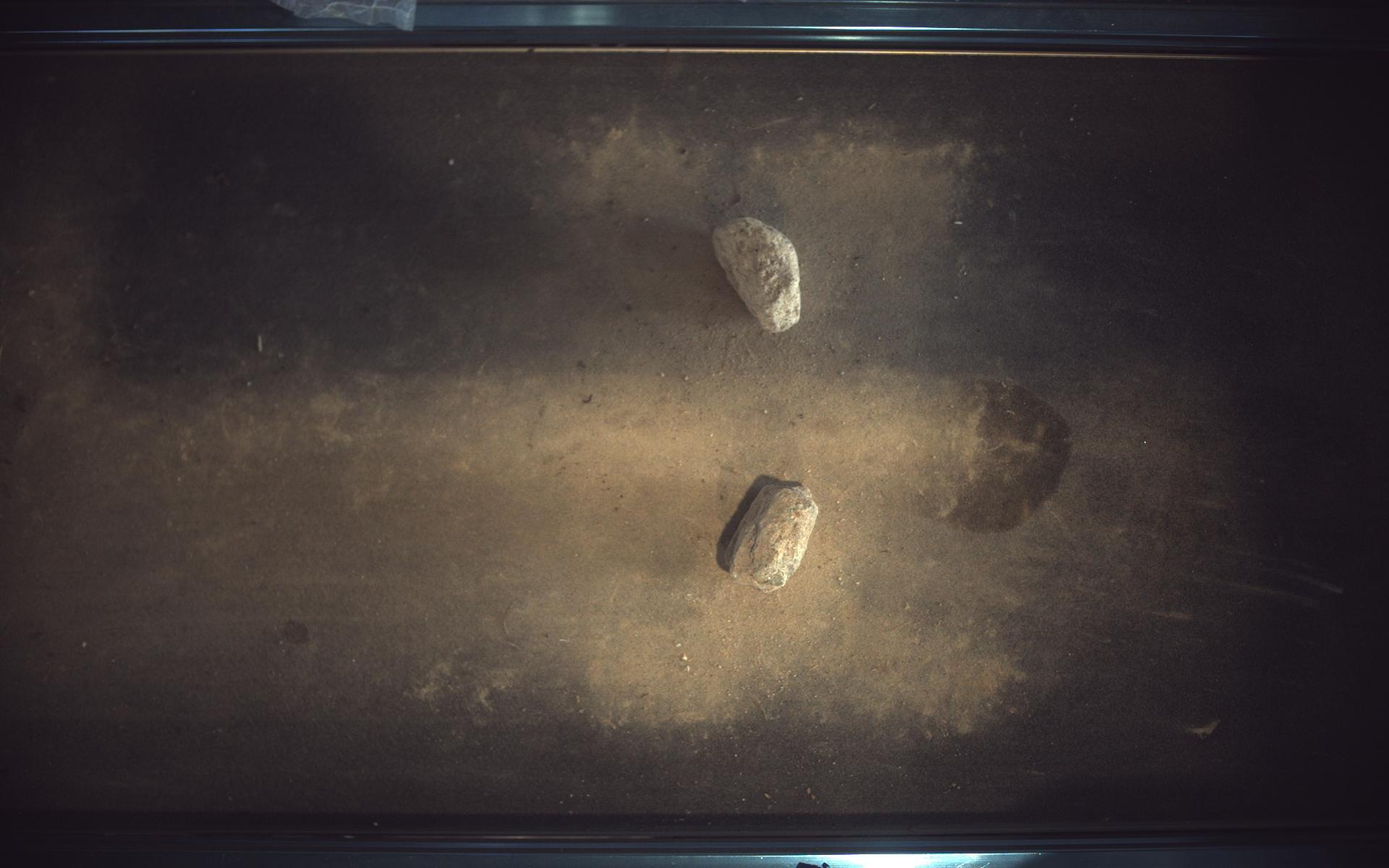stone: (718, 475, 820, 592), (713, 216, 802, 332)
